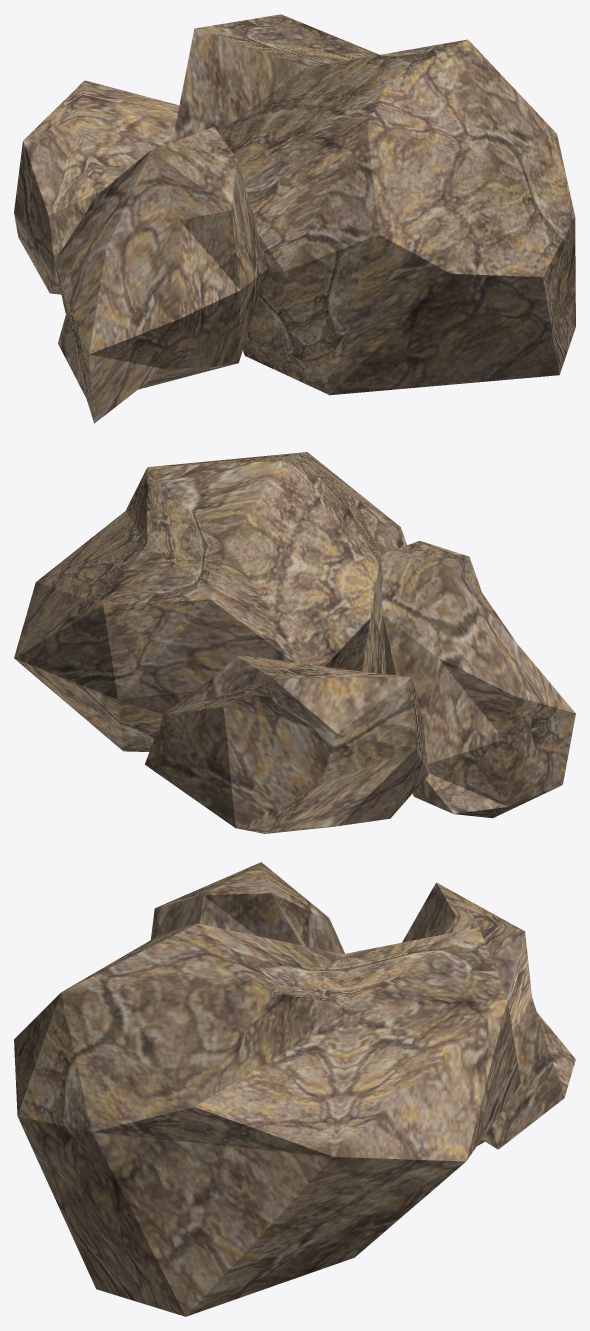
The model's file is C1SNLARGEROCKDH.obj.
3 renders of one model, top to bottom at view 1: azimuth 30°, elevation 25°; view 2: azimuth 150°, elevation 25°; view 3: azimuth 270°, elevation 25°, orthographic. The views are drawn at different scales.
Visible parts, largest first — view 1: Node 0; view 2: Node 0; view 3: Node 0.
Boxes of the visible parts, box(x1,y1,x2,y2) form: Node 0: box(14, 14, 575, 423); Node 0: box(14, 452, 575, 833); Node 0: box(14, 862, 575, 1316).
Size of the model in its own units: 17.35 by 9.62 by 16.13.
1 material, 1 textured.
